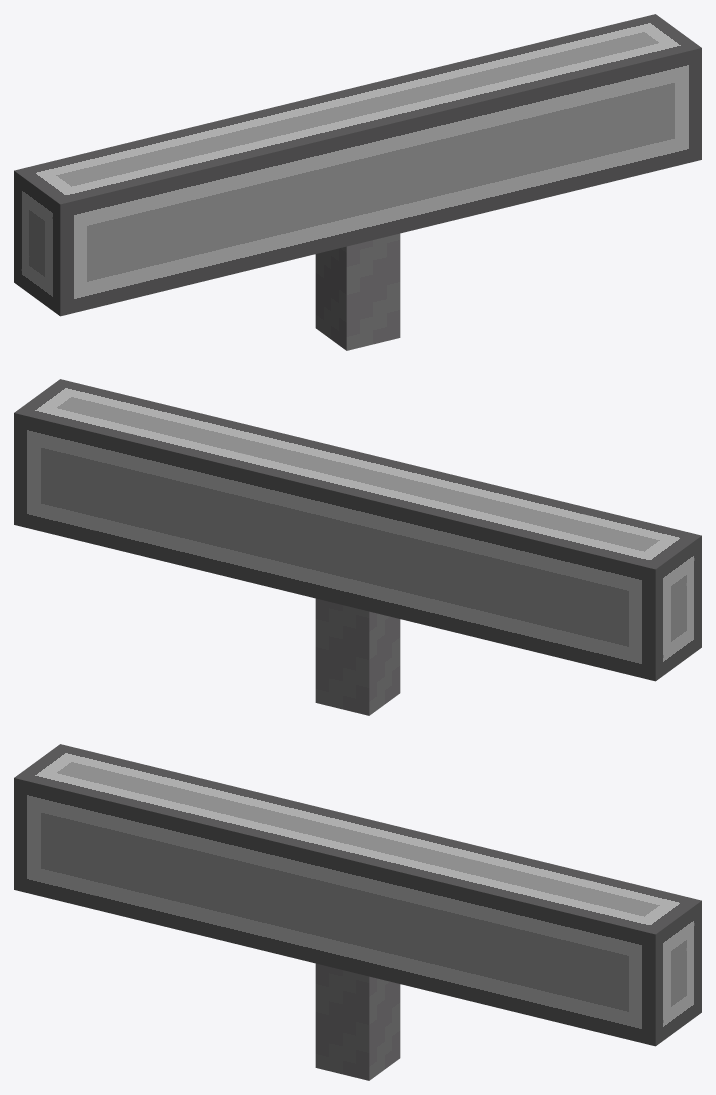
Rendered from stick_radar.obj.
3 views of the same model, one above another, from view 1: azimuth 30°, elevation 25°; view 2: azimuth 150°, elevation 25°; view 3: azimuth 330°, elevation 25° (orthographic).
Parts seen in each view (by area): view 1: cube1, cube; view 2: cube1, cube; view 3: cube1, cube.
Boxes of the visible parts, bbox=[...] form: cube1: bbox=[14, 14, 701, 316]; cube: bbox=[315, 233, 400, 350]; cube1: bbox=[14, 379, 701, 681]; cube: bbox=[315, 598, 400, 715]; cube1: bbox=[14, 744, 701, 1046]; cube: bbox=[315, 963, 400, 1080].
Size of the model in its own units: 3 by 1 by 0.375.
